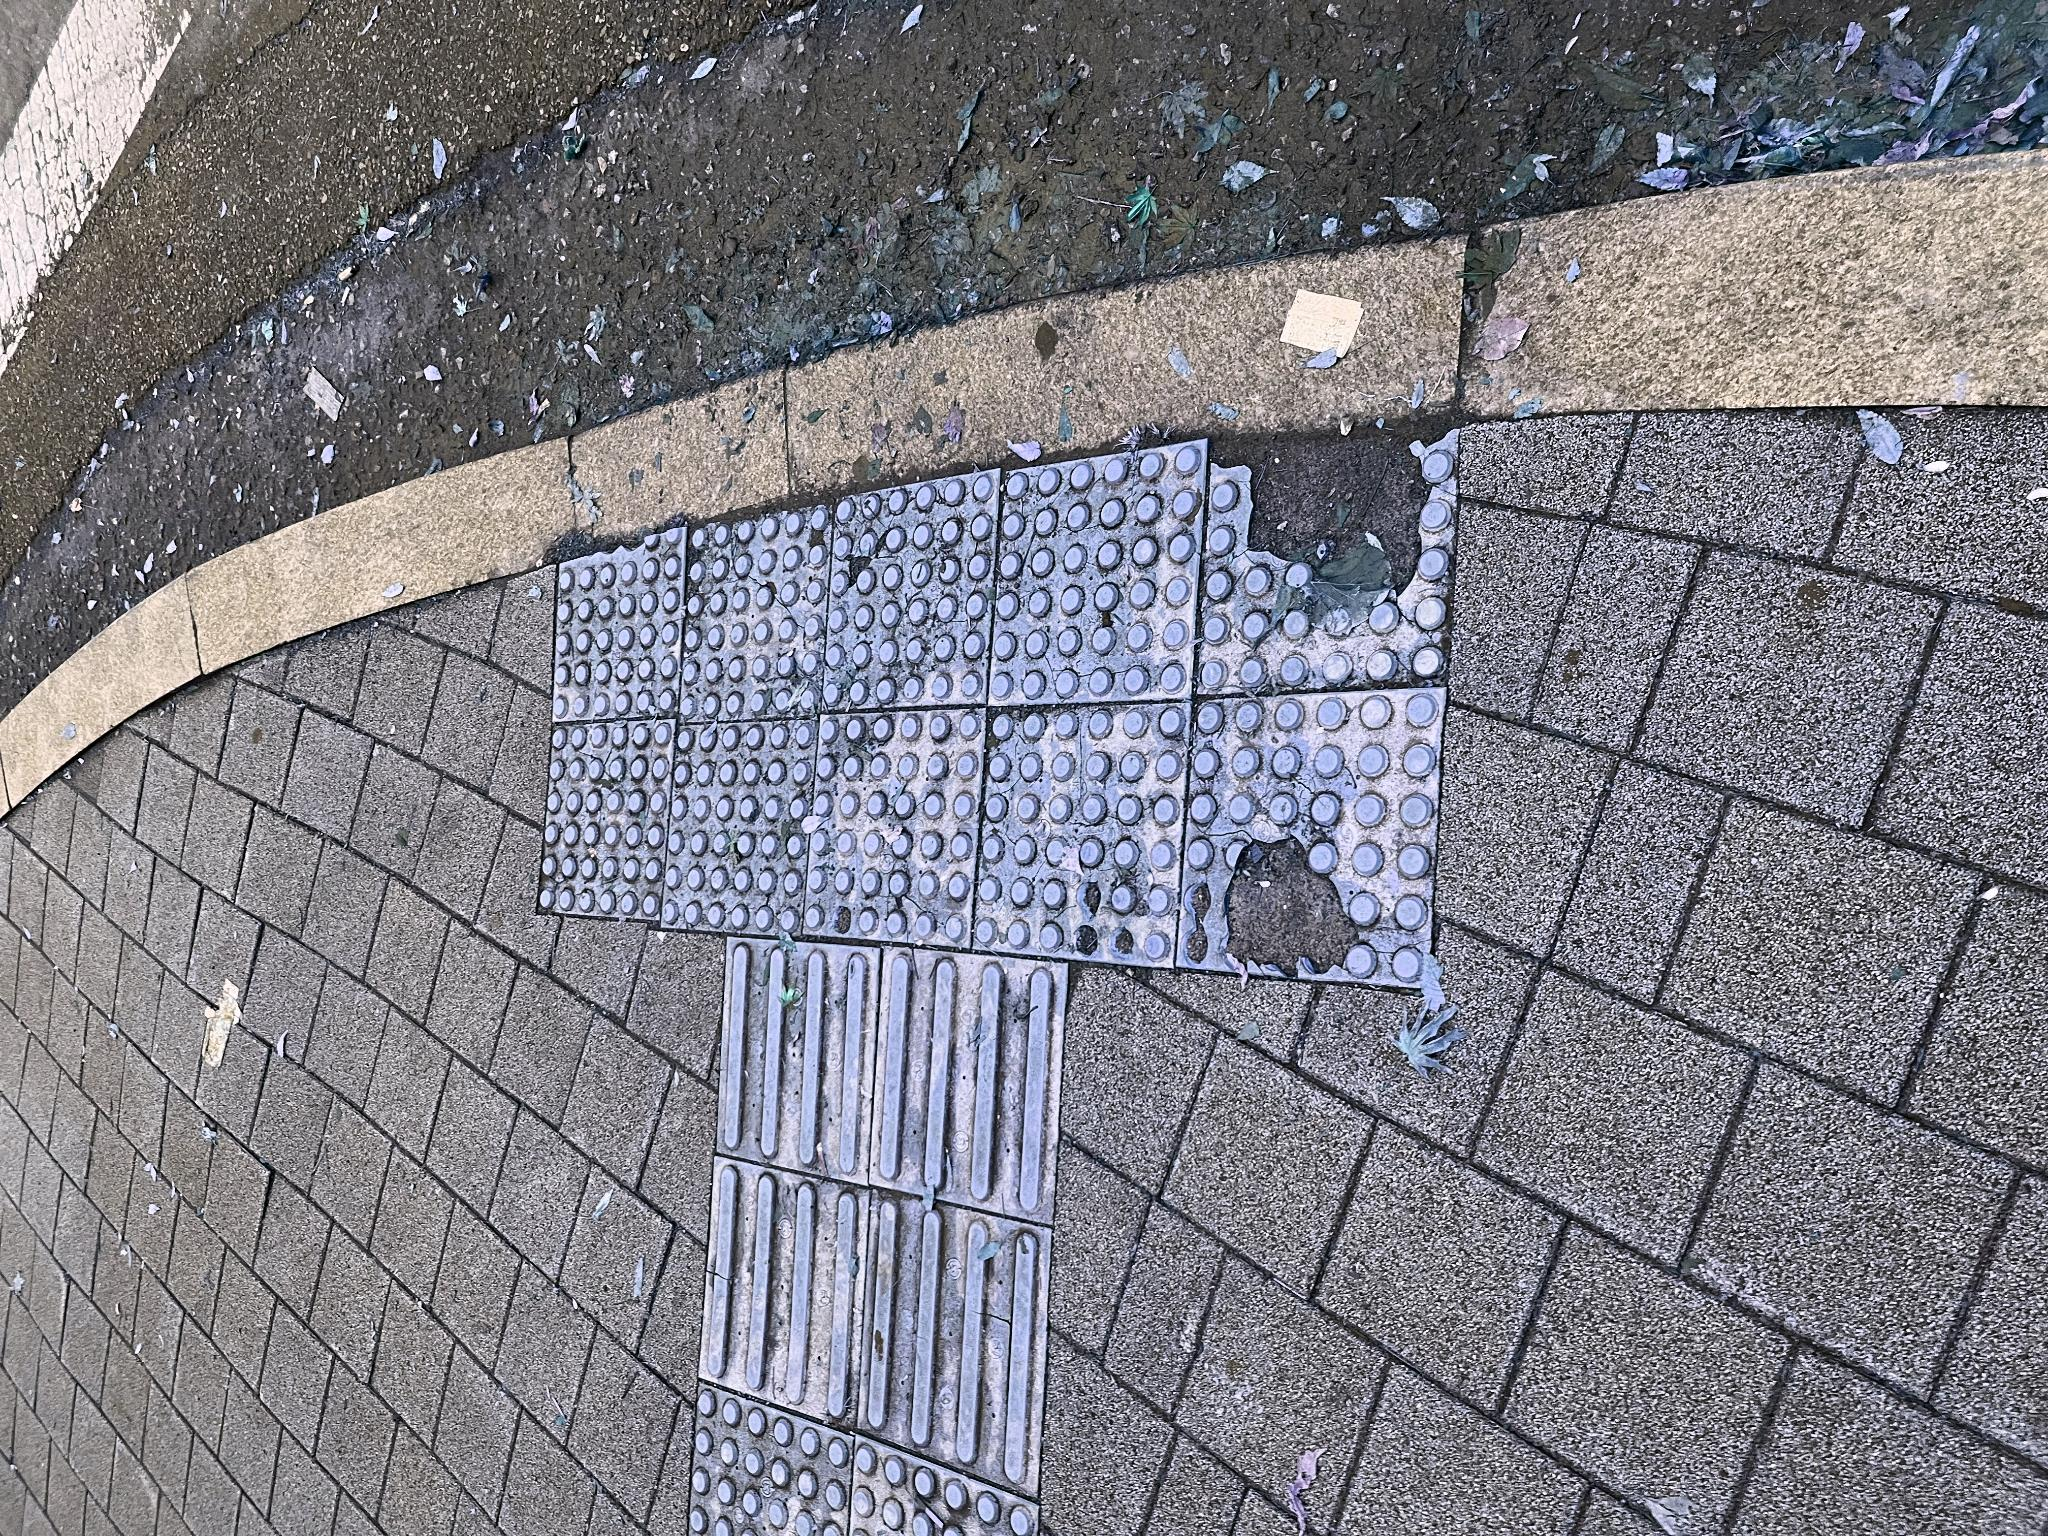Stop block broken: (552, 1178, 847, 1442), (842, 1199, 1113, 1457)
Stop block normal: (832, 989, 1095, 1205), (571, 975, 832, 1184), (589, 805, 826, 983), (826, 823, 1063, 994)
Straight block normal: (313, 871, 585, 1065), (353, 718, 597, 874)
